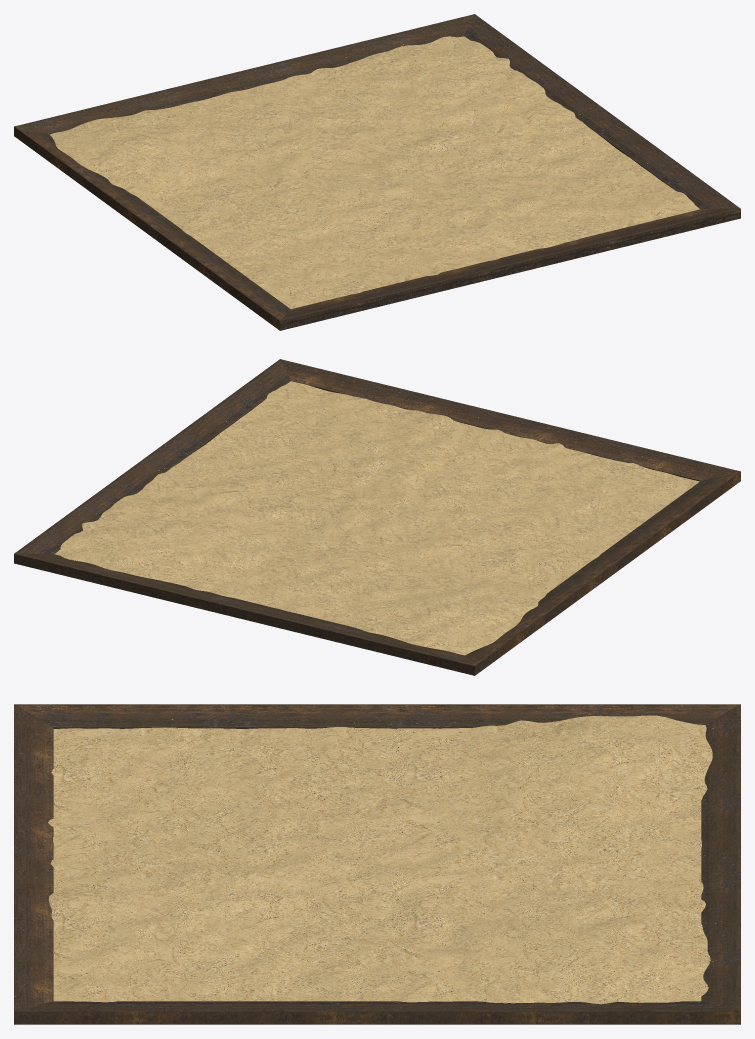
The picture shows the model from 3 angles, top to bottom: view 1: azimuth 30°, elevation 25°; view 2: azimuth 150°, elevation 25°; view 3: azimuth 270°, elevation 25°; orthographic projection. The views are drawn at different scales.
Parts seen in each view (by area): view 1: Pasir_Baked, Base_Baked; view 2: Pasir_Baked, Base_Baked; view 3: Pasir_Baked, Base_Baked.
Part boxes in pixels (x1,y1,x2,y2): Pasir_Baked: [50, 36, 700, 308]; Base_Baked: [14, 14, 740, 330]; Pasir_Baked: [54, 381, 699, 655]; Base_Baked: [14, 359, 740, 675]; Pasir_Baked: [48, 715, 712, 1004]; Base_Baked: [14, 704, 740, 1024].
Bounding box in the file's own units: 1500 × 35.91 × 1500.
Materials: 2 (2 with a texture image).
